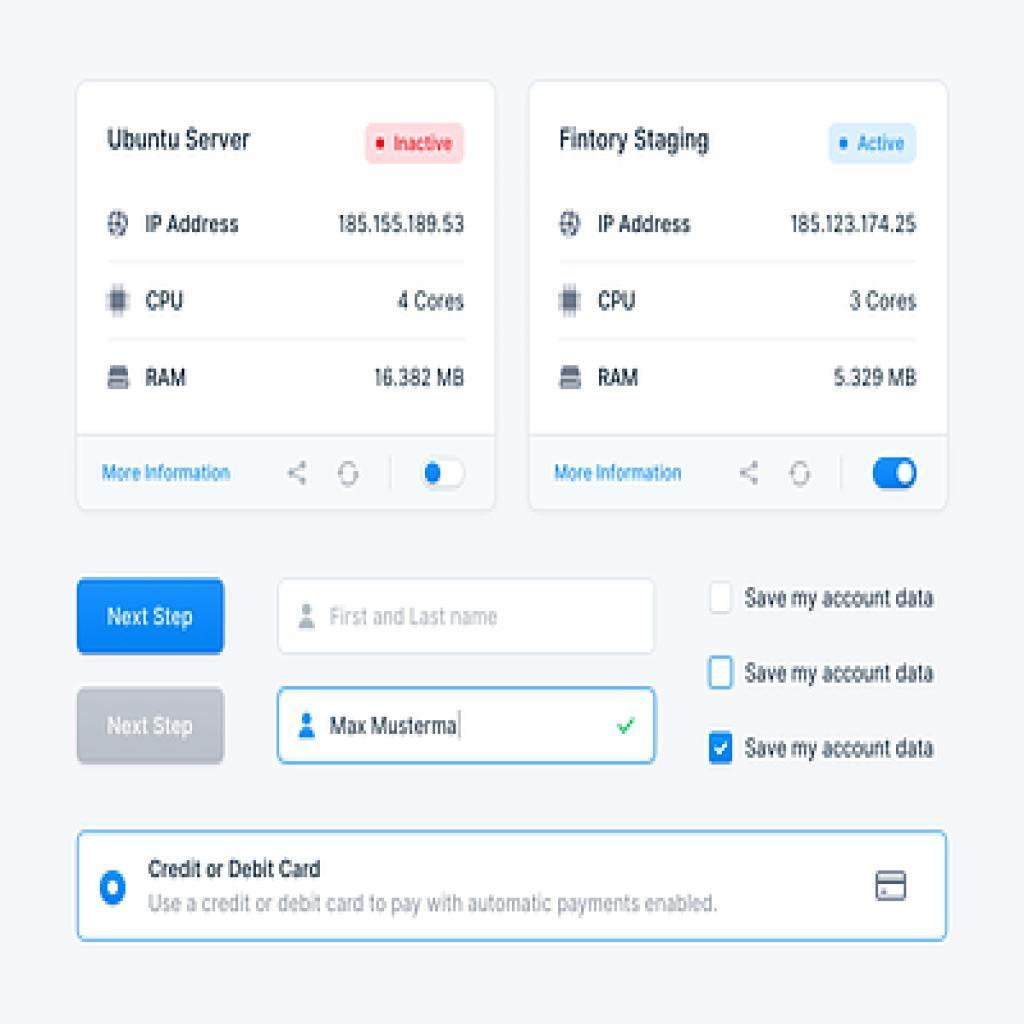button: (76, 576, 229, 657), (80, 687, 226, 771)
checkbox: (708, 654, 738, 693), (707, 582, 738, 617), (707, 731, 737, 767)
icon: (732, 452, 768, 496), (334, 456, 370, 493), (285, 456, 318, 496), (790, 455, 822, 495)
input: (282, 582, 659, 659)
radio: (94, 857, 137, 920)
switch: (871, 456, 921, 493), (423, 458, 469, 492)
